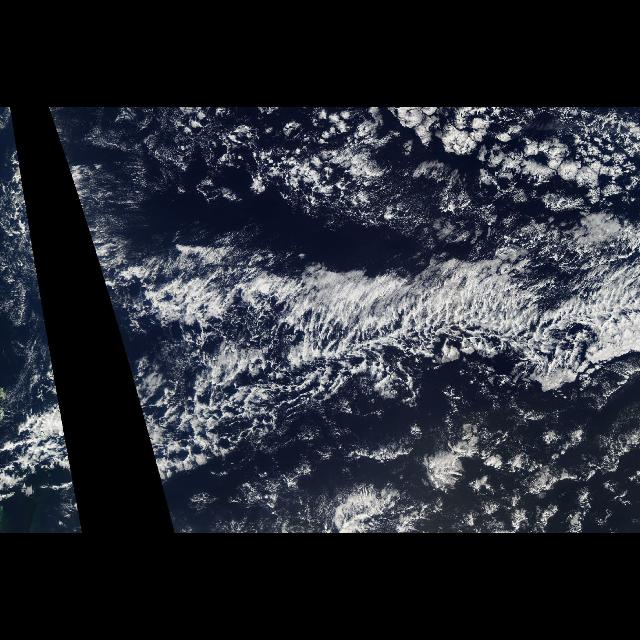Fish: (95, 235, 640, 498), (0, 251, 78, 511)
Flower: (138, 110, 634, 228), (454, 419, 638, 526)
Gravel: (184, 113, 626, 201), (347, 444, 639, 528)
